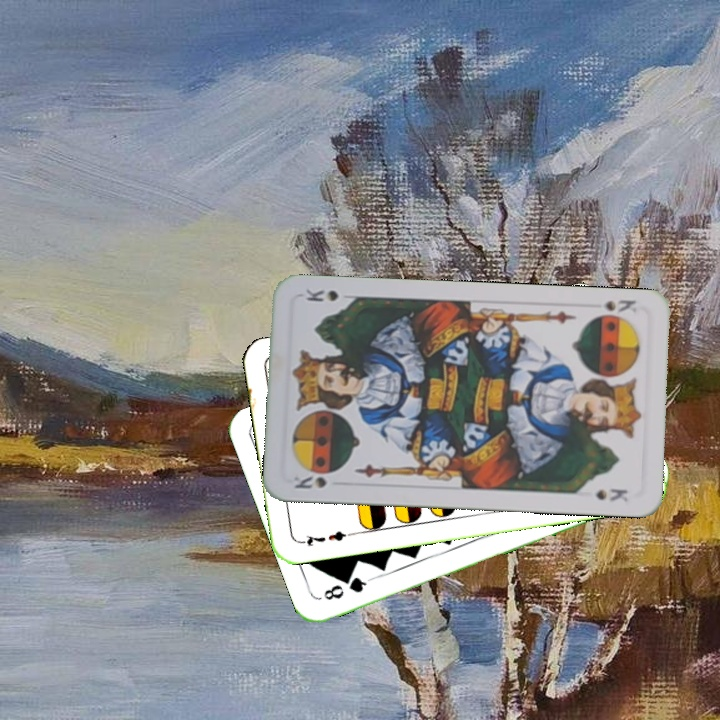E7: (296, 527, 355, 549)
G8: (319, 573, 374, 603)
SK: (585, 295, 639, 316), (290, 471, 329, 491)
